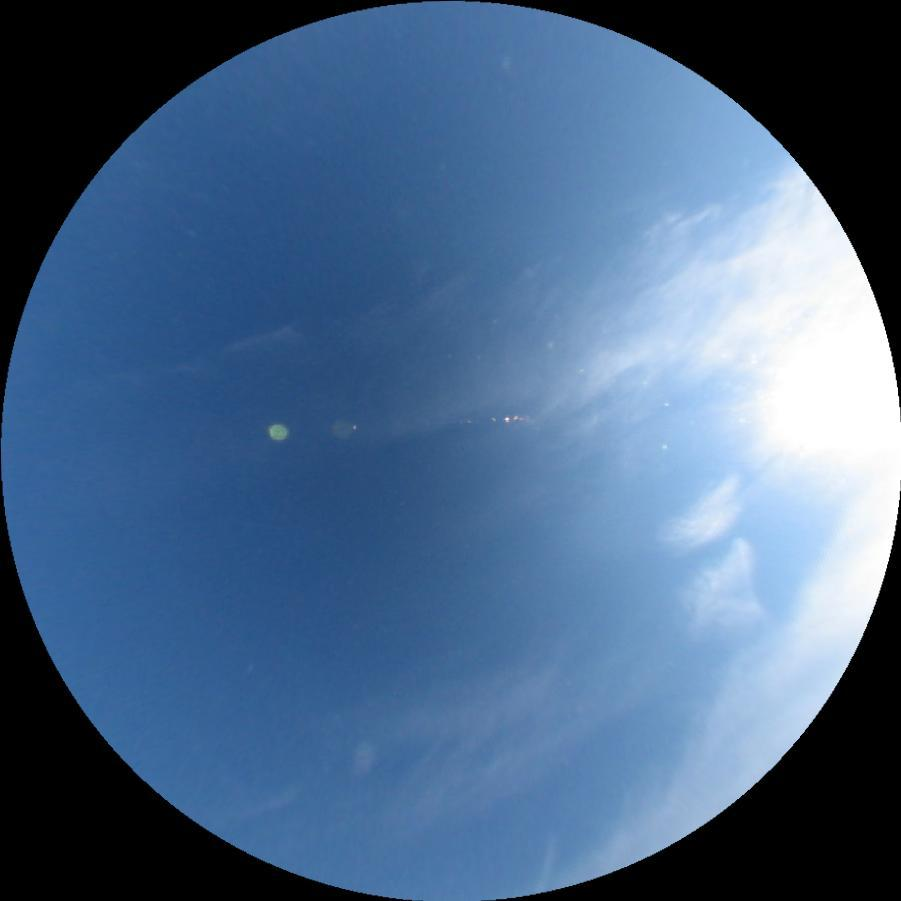contrail veryold: (361, 215, 871, 474), (646, 474, 771, 653)
